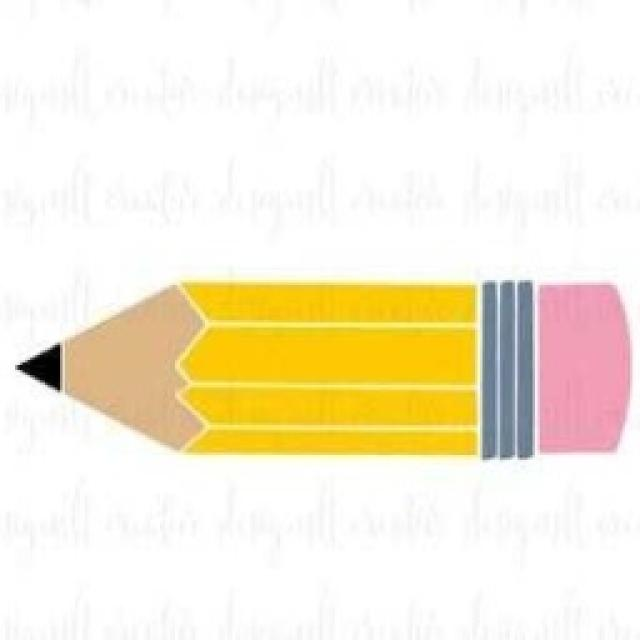pencil: (13, 272, 635, 462)
